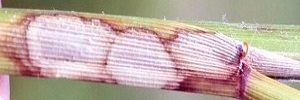RiceSheathBrownRot: (8, 12, 298, 100)
